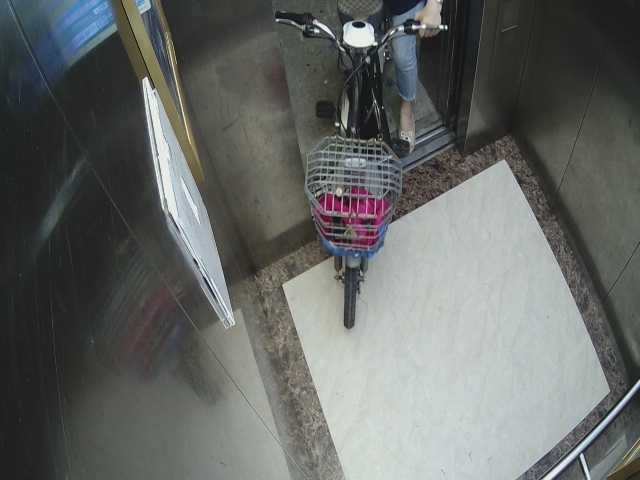emotor: (267, 3, 449, 336)
